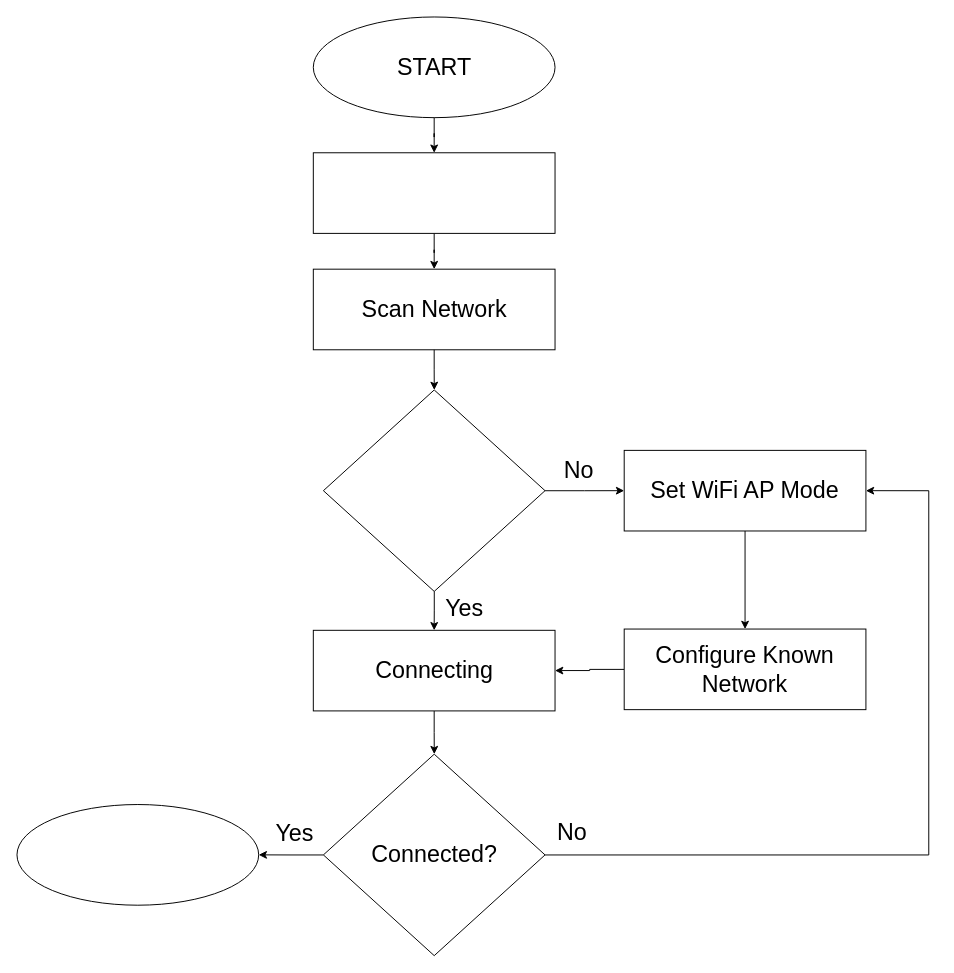
This 954x973 diagram has some shape labels left out. The shapes that lost their labels are listed below. From the top down, each one's box as (x1, y1, x2, y2) in pixels, then its label:
(312, 152, 555, 233): Initialization
(322, 389, 545, 591): Known Network?
(16, 804, 259, 905): END
